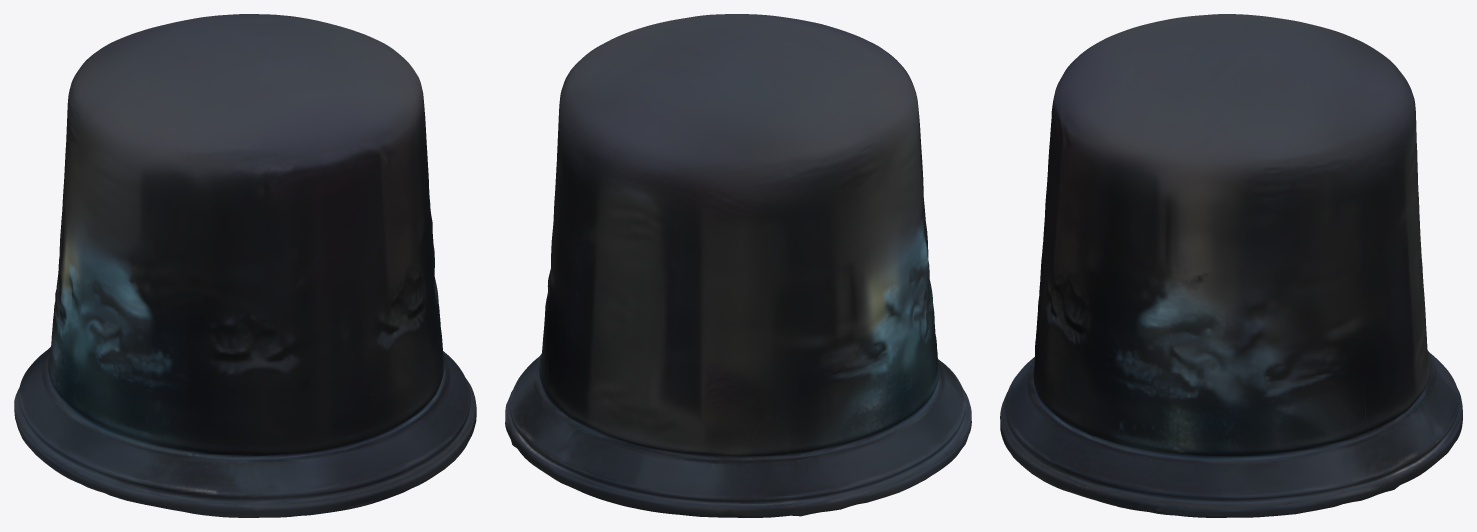
Rendered from base_basic_shaded.fbx.
The picture shows the model from 3 angles, left to right: view 1: azimuth 30°, elevation 25°; view 2: azimuth 150°, elevation 25°; view 3: azimuth 270°, elevation 25°; orthographic projection.
Parts seen in each view (by area): view 1: model; view 2: model; view 3: model.
Boxes of the visible parts, bbox=[...] form: model: bbox=[14, 14, 476, 517]; model: bbox=[505, 14, 971, 517]; model: bbox=[1000, 14, 1462, 517].
Bounding box in the file's own units: 191 × 173 × 190.
